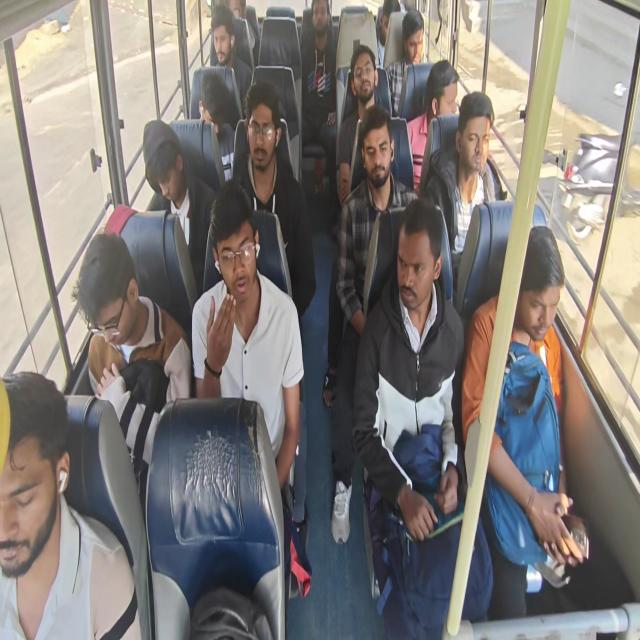person: (73, 230, 159, 362), (2, 382, 60, 560), (203, 200, 279, 328), (504, 233, 560, 344), (134, 122, 192, 204), (359, 127, 402, 216), (388, 221, 430, 312), (186, 72, 232, 145), (247, 105, 286, 167), (425, 66, 459, 128), (306, 2, 341, 59), (462, 109, 488, 181), (204, 6, 232, 70), (347, 56, 378, 110), (405, 18, 433, 66), (377, 0, 400, 49)
